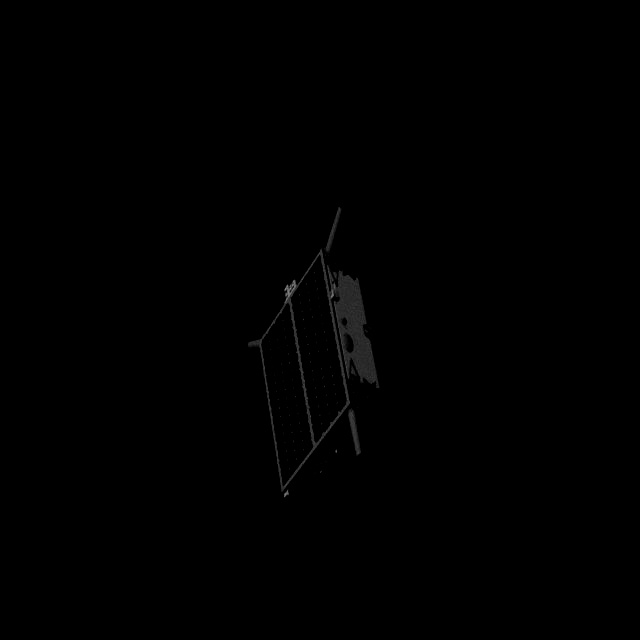satellite: (231, 194, 396, 512)
